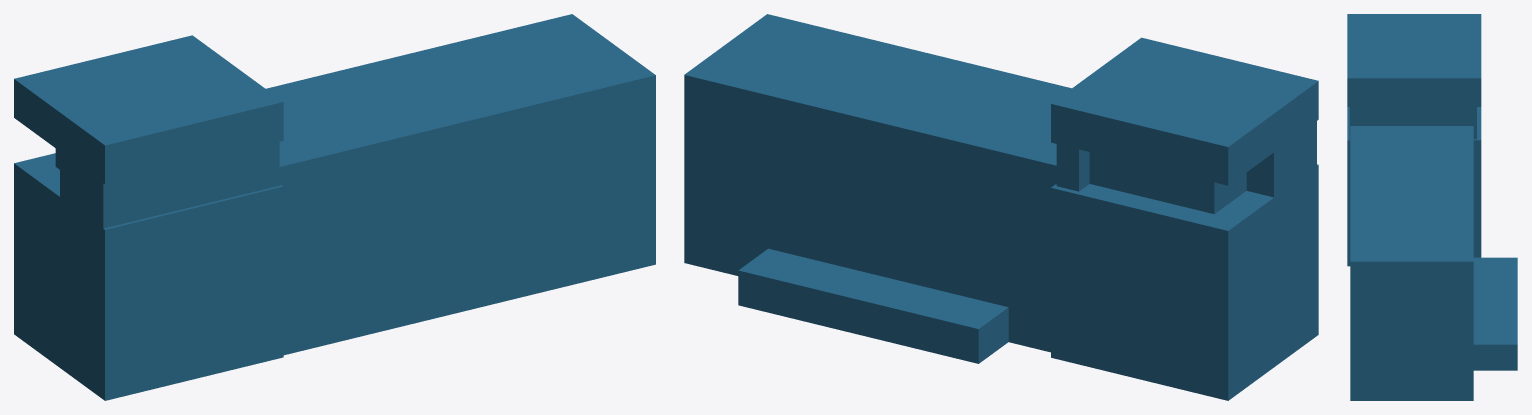
File: SM_Bld_Background_10_Collision.fbx
The picture shows the model from 3 angles, left to right: view 1: azimuth 30°, elevation 25°; view 2: azimuth 150°, elevation 25°; view 3: azimuth 270°, elevation 25°; orthographic projection. The views are drawn at different scales.
Visible parts, largest first — view 1: SM_Bld_Background_10_Collision; view 2: SM_Bld_Background_10_Collision; view 3: SM_Bld_Background_10_Collision.
Part boxes in pixels (bbox=[...]): SM_Bld_Background_10_Collision: bbox=[14, 14, 655, 400]; SM_Bld_Background_10_Collision: bbox=[684, 14, 1318, 400]; SM_Bld_Background_10_Collision: bbox=[1347, 14, 1517, 400].
Size of the model in its own units: 6705 by 2960 by 2431.
